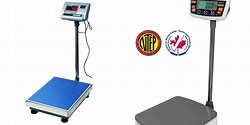Industrial Scale: (134, 1, 230, 123), (24, 1, 94, 125)
